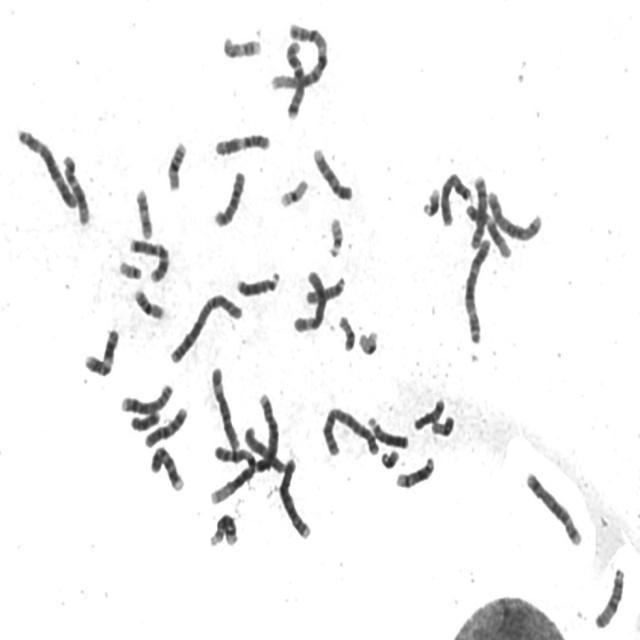A1: (266, 17, 330, 92), (206, 440, 259, 505)
A2: (166, 288, 244, 366), (318, 401, 382, 458)
A3: (13, 122, 78, 210), (459, 231, 494, 345)
B4: (276, 452, 314, 540), (247, 386, 281, 476)
B5: (521, 465, 584, 547), (484, 185, 544, 242)
C10: (210, 164, 248, 229), (141, 402, 189, 449)
C11: (80, 322, 121, 378), (210, 127, 272, 157)
C12: (462, 198, 514, 260), (59, 148, 92, 226)
C6: (206, 361, 242, 451), (289, 264, 328, 333)
C7: (125, 232, 172, 284), (282, 34, 308, 121)
C8: (116, 378, 174, 415), (466, 169, 489, 249)
C9: (309, 142, 354, 202), (147, 440, 186, 492)
D13: (364, 410, 411, 450), (232, 266, 282, 298)
D14: (392, 451, 436, 491), (206, 508, 239, 548)
D15: (590, 562, 626, 630), (302, 269, 347, 305)
E16: (130, 282, 167, 321), (163, 135, 188, 192)
E17: (131, 183, 155, 240), (219, 29, 263, 59)
E18: (410, 392, 446, 432), (126, 406, 162, 432)
F19: (275, 172, 310, 209), (355, 324, 380, 356)
F20: (334, 310, 356, 352), (427, 409, 457, 438)
G21: (418, 182, 442, 218), (377, 444, 401, 469)
G22: (324, 210, 346, 260), (115, 254, 144, 282)
X: (241, 420, 289, 474), (436, 166, 474, 227)
